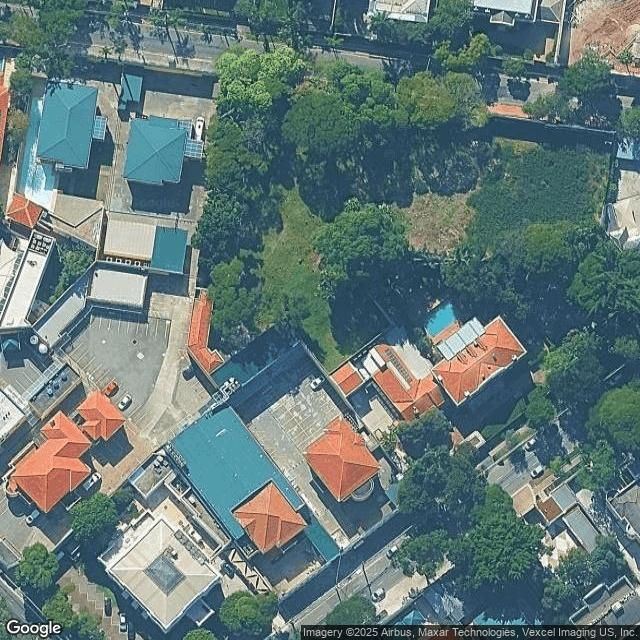pool: (434, 327, 444, 353)
